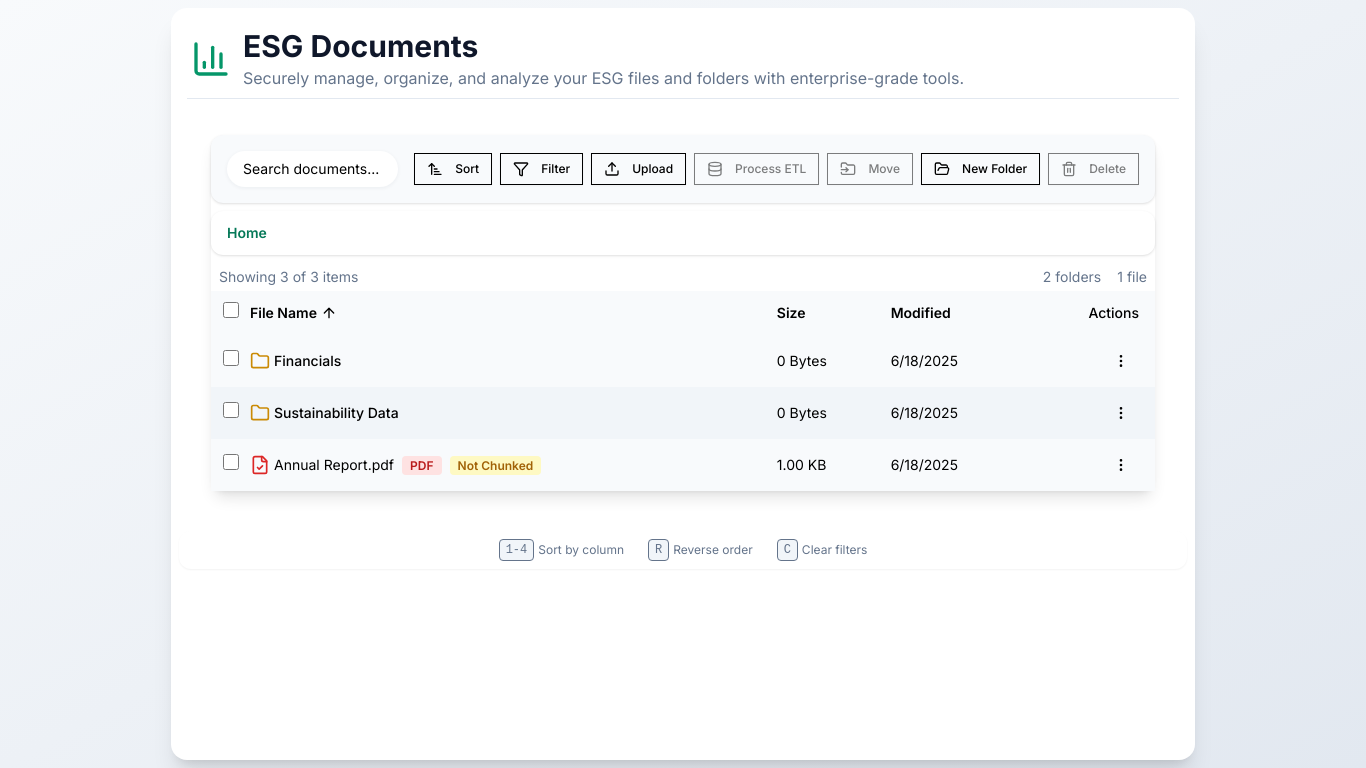
it: Move Item Functionality › should open the move dialog with folder list when moving a file
Expected: the text "Annual Report.pdf" is shown, [274, 456, 394, 472]
Click the MoreVertical button in that row to open dropdown
What coordinates should you click on to do the following:
click the button named "more-actions" in the row of "Annual Report.pdf"
I would click on:
 (1121, 464)
Its box is [1103, 446, 1139, 482].
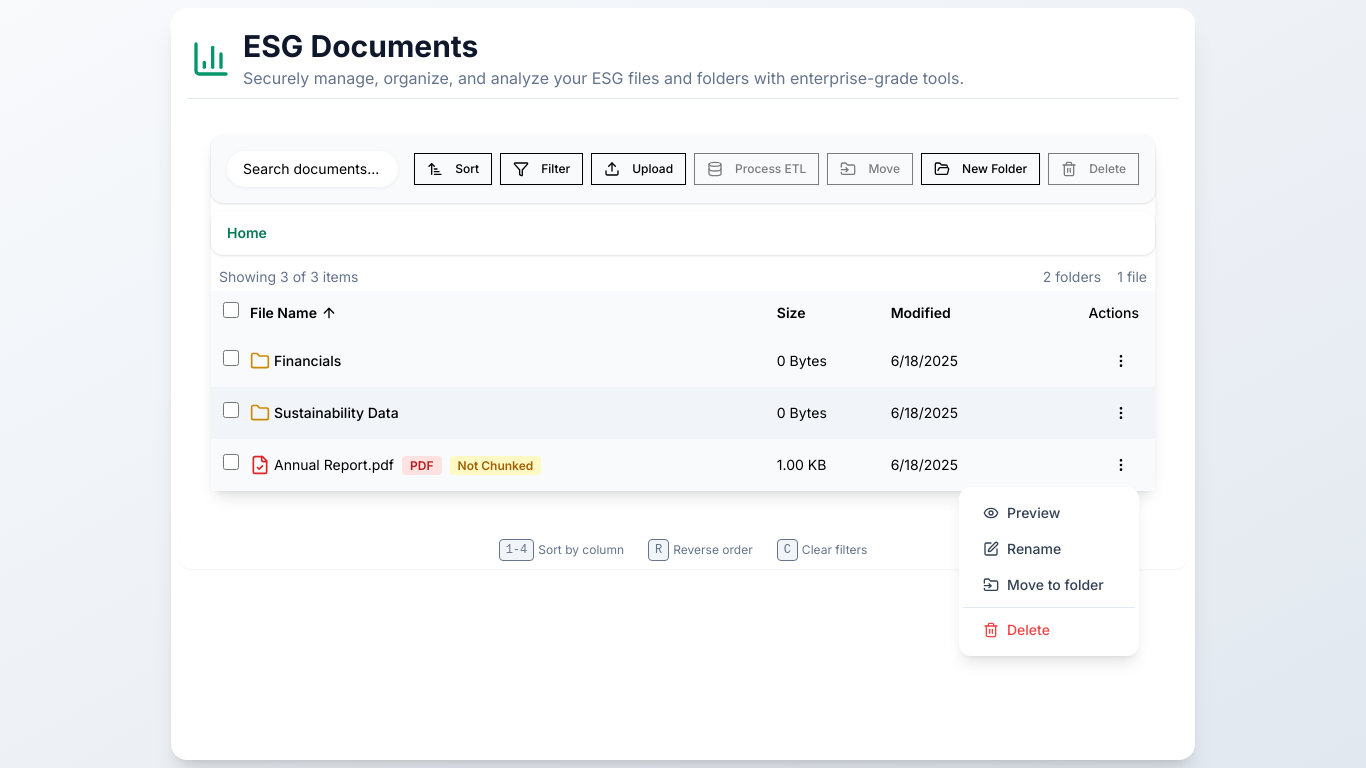
Click the "Move to folder" item in the dropdown
What coordinates should you click on to do the following:
click the menu item with aria-label "move-to-folder"
I would click on:
 (1043, 584)
Its box is [983, 576, 1104, 593].
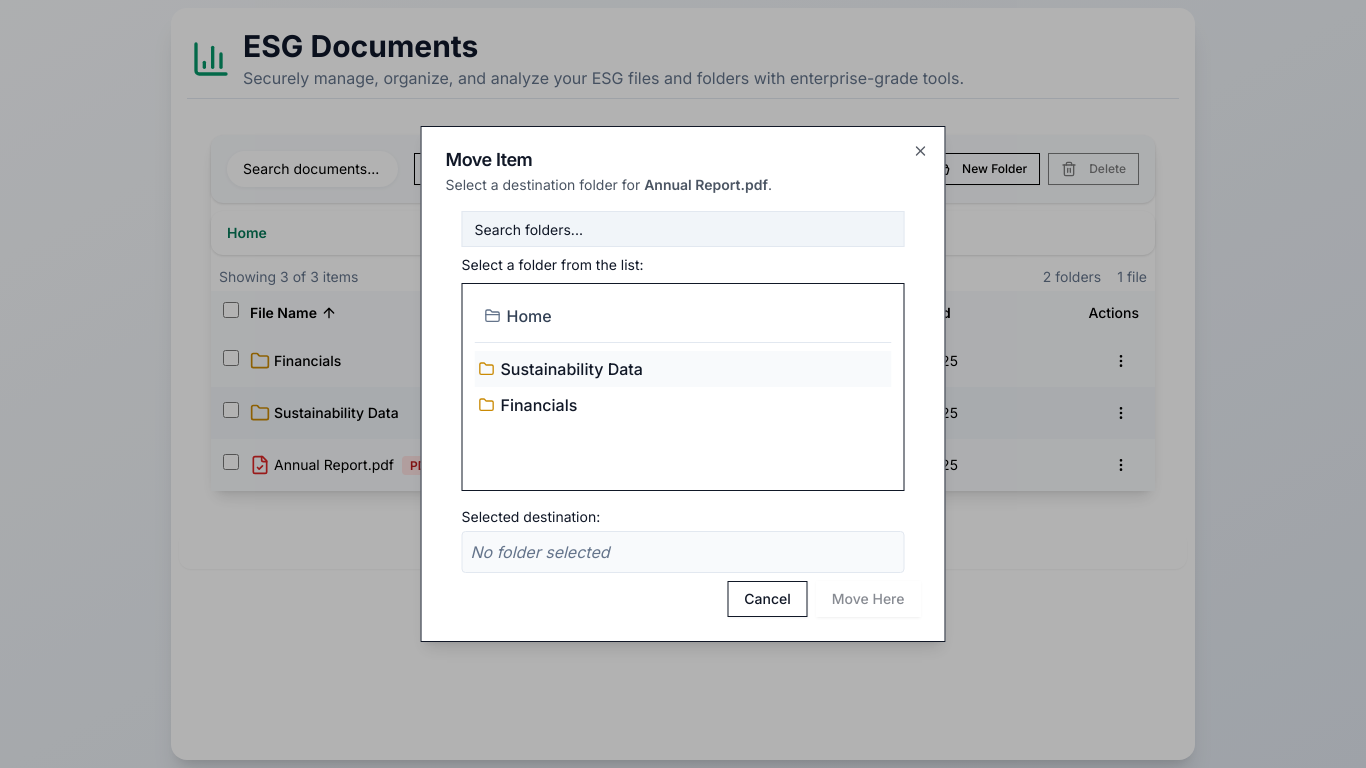
Expected: the heading "Move Item" is shown, [446, 149, 532, 170]
Expected: the text "Select a destination folder for Annual Report.pdf." is shown, [446, 176, 772, 193]
Expected: the text "Annual Report.pdf" is shown, [644, 176, 768, 193]
